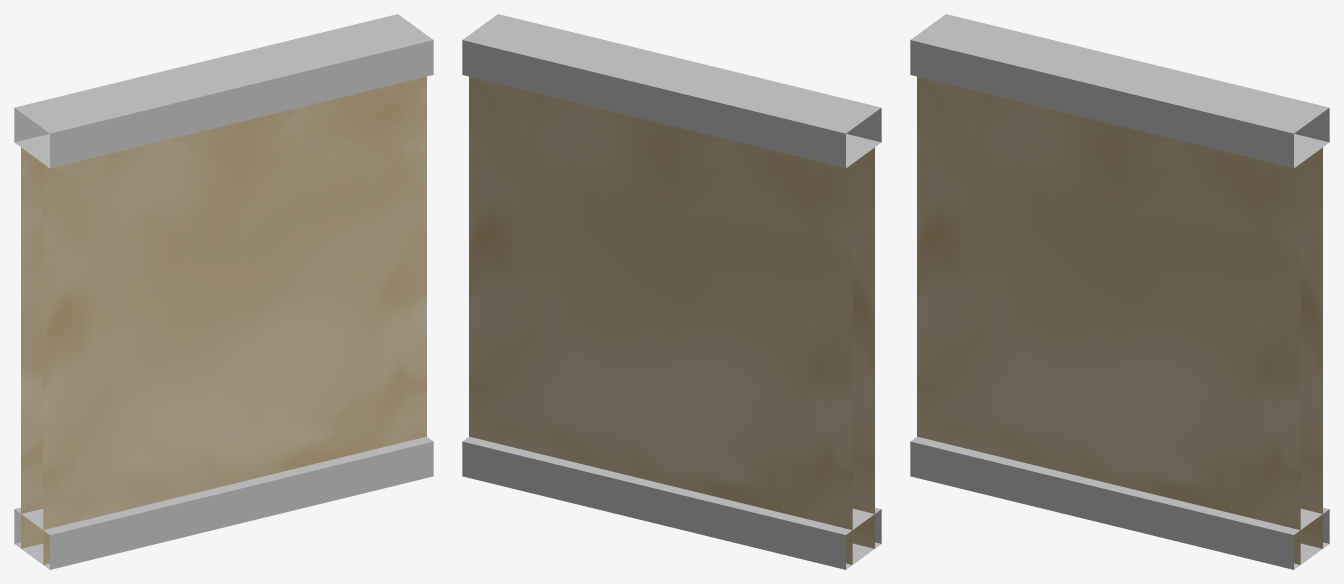
The model's file is MOD_wall_02.fbx.
3 renders of one model, left to right at view 1: azimuth 30°, elevation 25°; view 2: azimuth 150°, elevation 25°; view 3: azimuth 330°, elevation 25°, orthographic.
Parts seen in each view (by area): view 1: wall_02; view 2: wall_02; view 3: wall_02.
Boxes of the visible parts, x1,y1,x2,y2 form: wall_02: (14, 14, 433, 569); wall_02: (462, 14, 881, 569); wall_02: (910, 14, 1329, 569).
Size of the model in its own units: 118 by 18.99 by 128.
